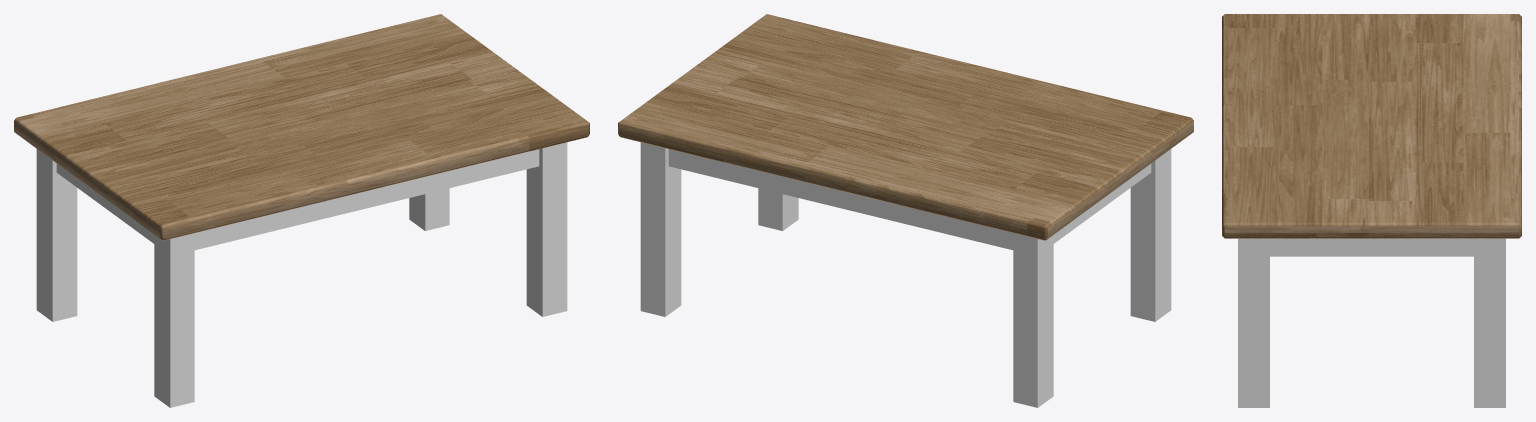
File: kitchen_table_011.fbx
3 views of the same model, side by side, from view 1: azimuth 30°, elevation 25°; view 2: azimuth 150°, elevation 25°; view 3: azimuth 270°, elevation 25° (orthographic).
Visible parts, largest first — view 1: kitchen_table_011; view 2: kitchen_table_011; view 3: kitchen_table_011.
Part boxes in pixels (x1,y1,x2,y2): kitchen_table_011: (14, 14, 589, 407); kitchen_table_011: (618, 14, 1193, 407); kitchen_table_011: (1222, 14, 1521, 407).
Bounding box in the file's own units: 204 × 123 × 87.
